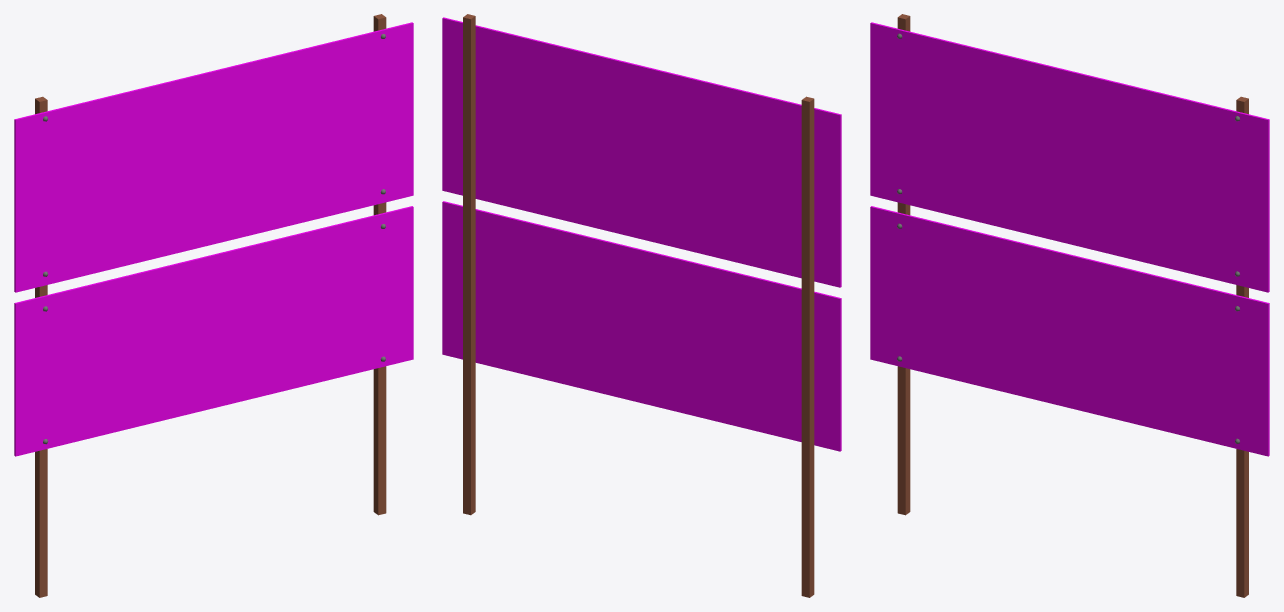
Rendered from sign_big_01.fbx.
3 renders of one model, left to right at view 1: azimuth 30°, elevation 25°; view 2: azimuth 150°, elevation 25°; view 3: azimuth 330°, elevation 25°, orthographic.
Visible parts, largest first — view 1: square_sign1, square_sign, pole1, pole; view 2: square_sign1, square_sign, pole, pole1; view 3: square_sign1, square_sign, pole, pole1.
Part boxes in pixels (<box>): square_sign1: <box>14,22,413,292</box>; square_sign: <box>14,206,413,456</box>; pole1: <box>373,14,386,515</box>; pole: <box>35,96,47,597</box>; square_sign1: <box>442,17,841,287</box>; square_sign: <box>442,201,841,451</box>; pole: <box>801,96,814,597</box>; pole1: <box>463,14,475,515</box>; square_sign1: <box>870,22,1269,292</box>; square_sign: <box>870,206,1269,456</box>; pole: <box>897,14,910,515</box>; pole1: <box>1236,96,1248,597</box>.
Size of the model in its own units: 93.32 by 111 by 3.19.
